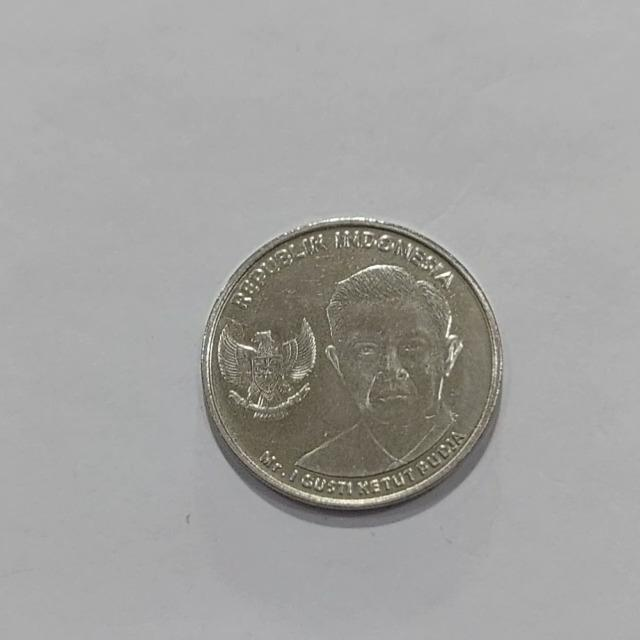Rp100: (199, 216, 504, 512), (289, 261, 467, 480)
